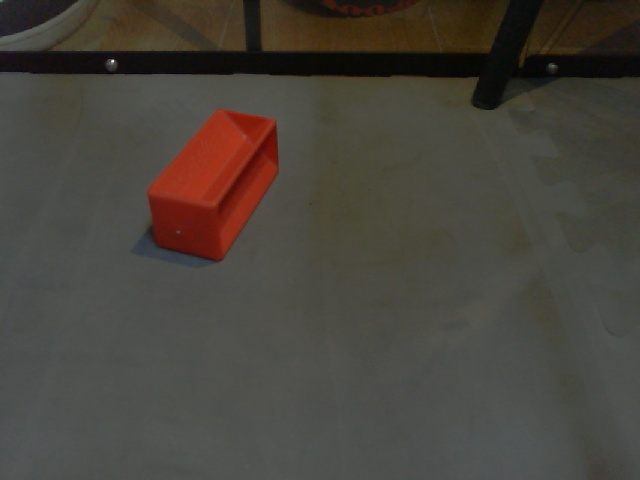RedSample: (146, 107, 281, 266)
